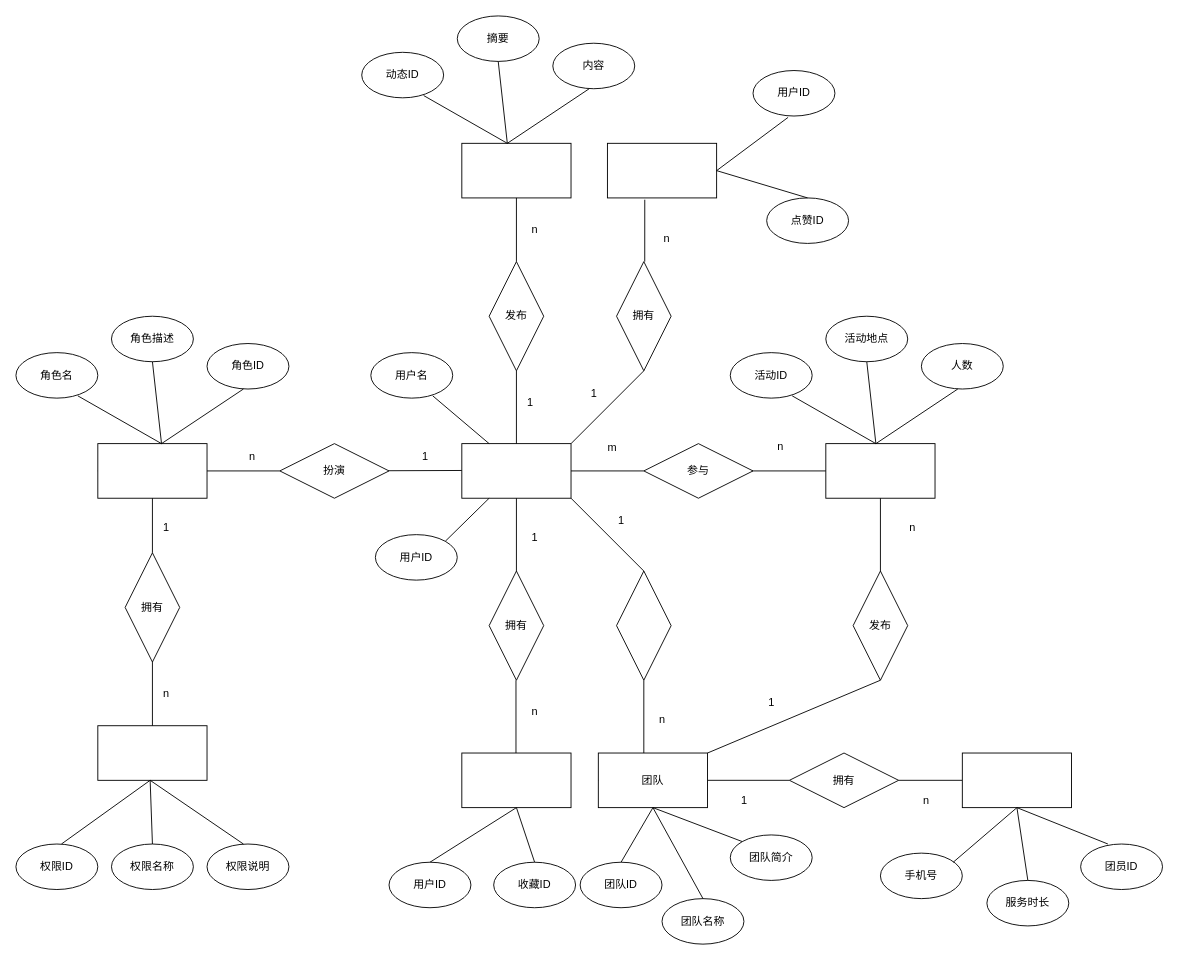
This 1178x960 diagram has some shape labels left out. Here are the shapes that lost their labels. From the top down, the centre of each, then its label:
At point (516, 170): "动态".
At point (662, 170): "点赞".
At point (152, 470): "角色".
At point (516, 470): "用户".
At point (880, 470): "活动".
At point (643, 625): "加入".
At point (152, 752): "权限".
At point (516, 780): "收藏".
At point (1016, 780): "团员".
